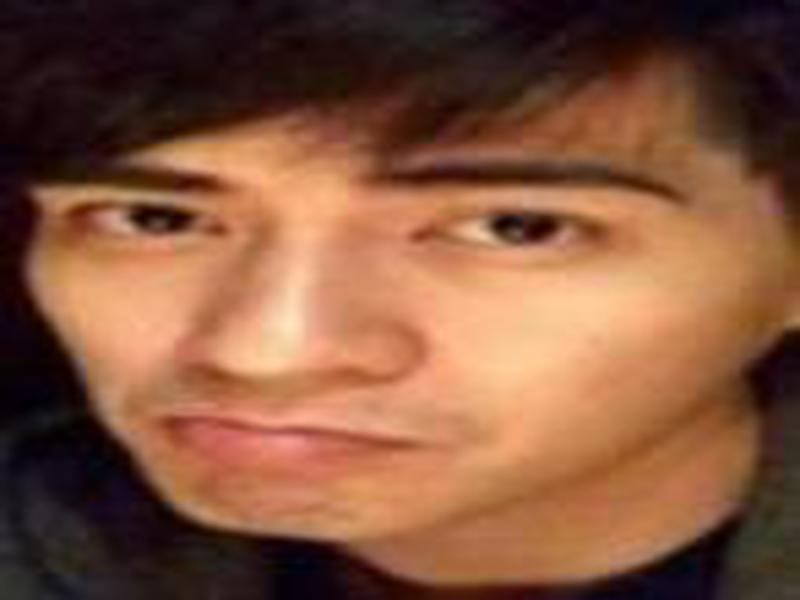without_mask: (20, 104, 747, 548)
